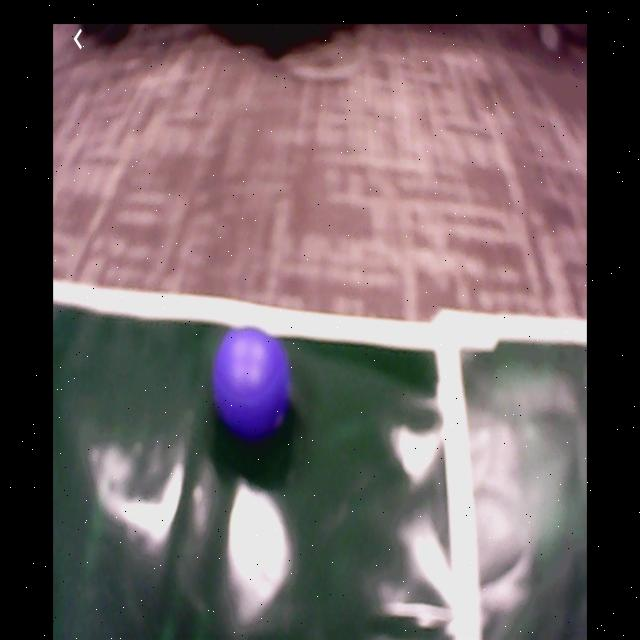ball: (215, 328, 286, 431)
